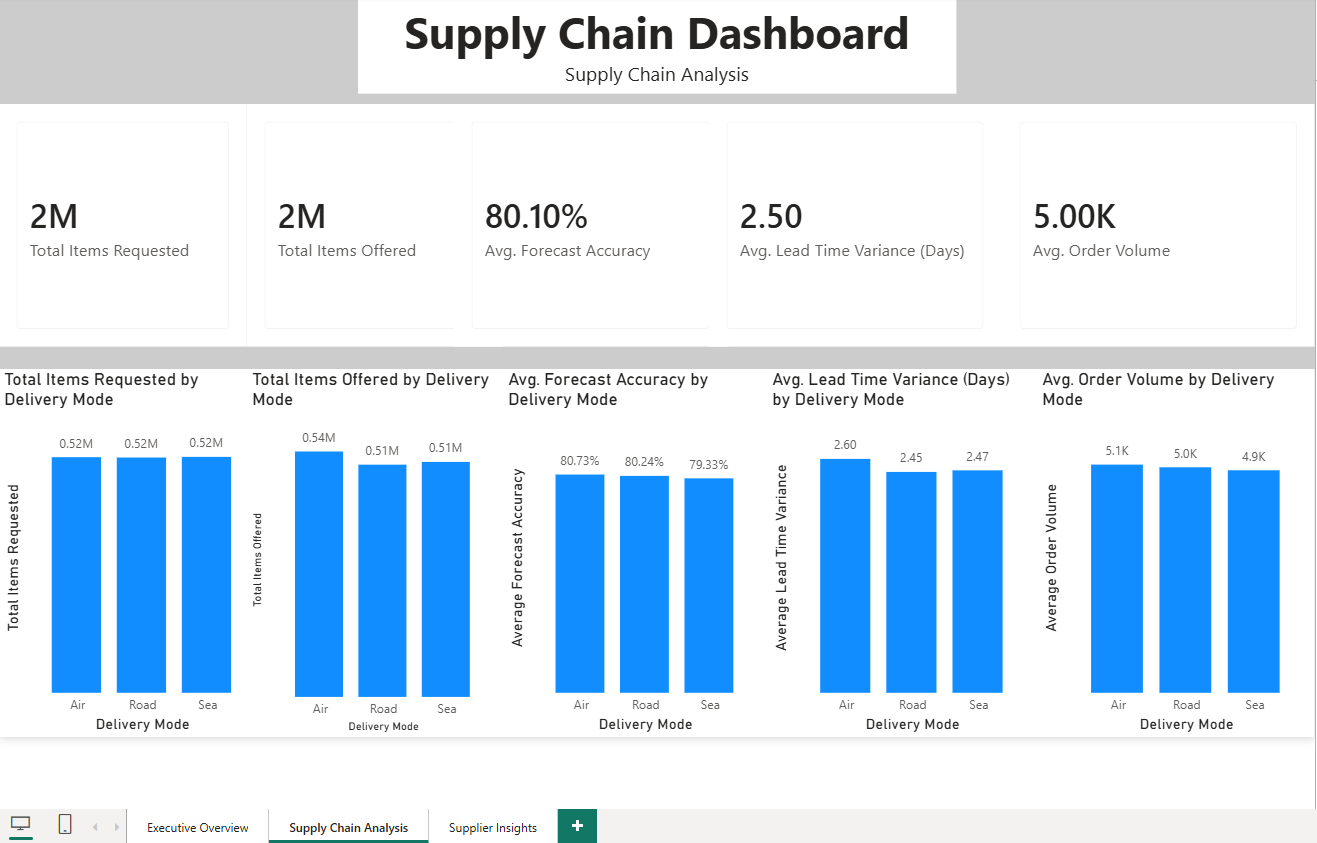

Layout of this report page (visuals, bound fields, positions):
{"tool":"powerbi","page":{"name":"Supply Chain Analysis","canvas":[1280,720],"ordinal":1},"visuals":[{"type":"textbox","box":[349.2,0,581.6,94.3],"z":0},{"type":"cardVisual","fields":{"Data":["Supply_chain_dataset.Total Items Requested"]},"box":[0,104.1,241.2,236.4],"z":1000},{"type":"cardVisual","fields":{"Data":["Supply_chain_dataset.Total Items Offered"]},"box":[241.2,104.1,249,236.4],"z":2000},{"type":"cardVisual","fields":{"Data":["Supply_chain_dataset.Average Forecast Accuracy"]},"box":[442.6,104.1,266.5,236.4],"z":3000},{"type":"cardVisual","fields":{"Data":["Supply_chain_dataset.Average Lead Time Variance"]},"box":[690.6,104.1,285,236.4],"z":4000},{"type":"cardVisual","fields":{"Data":["Supply_chain_dataset.Average Order Volume"]},"box":[975.6,104.1,304.4,236.4],"z":5000},{"type":"clusteredColumnChart","fields":{"Category":["Supply_chain_dataset.delivery_mode"],"Y":["Supply_chain_dataset.Total Items Requested"]},"box":[0,361.8,258.7,357.9],"z":6000},{"type":"clusteredColumnChart","fields":{"Category":["Supply_chain_dataset.delivery_mode"],"Y":["Supply_chain_dataset.Total Items Offered"]},"box":[241.2,361.8,249,357.9],"z":7000},{"type":"clusteredColumnChart","title":"Avg. Forecast Accuracy by Delivery Mode","fields":{"Category":["Supply_chain_dataset.delivery_mode"],"Y":["Supply_chain_dataset.Average Forecast Accuracy"]},"box":[490.2,361.8,256.8,357.9],"z":8000},{"type":"clusteredColumnChart","title":"Avg. Lead Time Variance (Days) by Delivery Mode","fields":{"Category":["Supply_chain_dataset.delivery_mode"],"Y":["Supply_chain_dataset.Average Lead Time Variance"]},"box":[747,361.8,262.6,357.9],"z":9000},{"type":"clusteredColumnChart","title":"Avg. Order Volume by Delivery Mode","fields":{"Category":["Supply_chain_dataset.delivery_mode"],"Y":["Supply_chain_dataset.Average Order Volume"]},"box":[1009.6,361.8,270.4,357.9],"z":10000}]}

Visuals, with their boxes on the page's 1280x720 design canvas (x1, y1, x2, y2). These are canvas units, not pixel positions in the 1317x843 screenshot, which may show the page scaled, cropped or inside an application window:
textbox: 349,0,931,94
cardVisual - Supply_chain_dataset.Total Items Requested: 0,104,241,340
cardVisual - Supply_chain_dataset.Total Items Offered: 241,104,490,340
cardVisual - Supply_chain_dataset.Average Forecast Accuracy: 443,104,709,340
cardVisual - Supply_chain_dataset.Average Lead Time Variance: 691,104,976,340
cardVisual - Supply_chain_dataset.Average Order Volume: 976,104,1280,340
clusteredColumnChart - Supply_chain_dataset.delivery_mode x Supply_chain_dataset.Total Items Requested: 0,362,259,720
clusteredColumnChart - Supply_chain_dataset.delivery_mode x Supply_chain_dataset.Total Items Offered: 241,362,490,720
"Avg. Forecast Accuracy by Delivery Mode" clusteredColumnChart: 490,362,747,720
"Avg. Lead Time Variance (Days) by Delivery Mode" clusteredColumnChart: 747,362,1010,720
"Avg. Order Volume by Delivery Mode" clusteredColumnChart: 1010,362,1280,720
